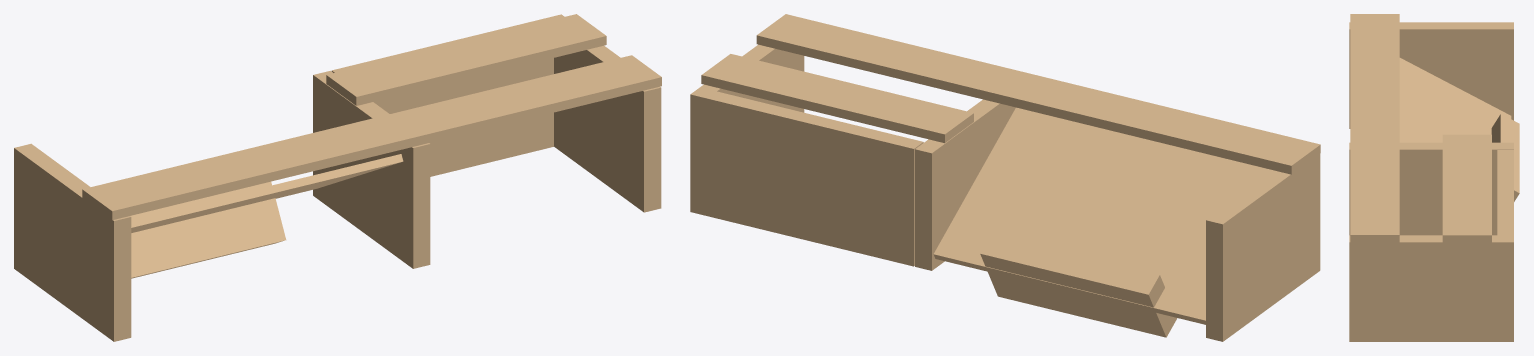
File: tinker.obj
3 renders of one model, left to right at view 1: azimuth 30°, elevation 25°; view 2: azimuth 150°, elevation 25°; view 3: azimuth 270°, elevation 25°, orthographic. The views are drawn at different scales.
Parts seen in each view (by area): view 1: obj_0; view 2: obj_0; view 3: obj_0.
Boxes of the visible parts, x1=… form: obj_0: x1=14, y1=14, x2=661, y2=341; obj_0: x1=690, y1=14, x2=1320, y2=341; obj_0: x1=1349, y1=14, x2=1519, y2=341.
Bounding box in the file's own units: 119 × 32 × 38.83.
